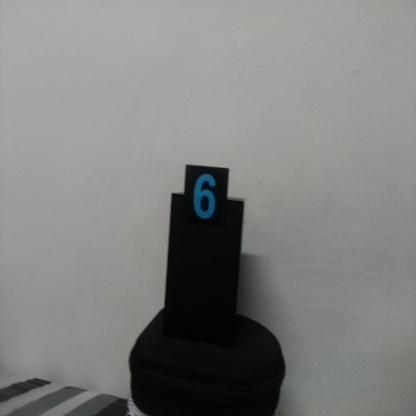id_6: (185, 165, 230, 242)
